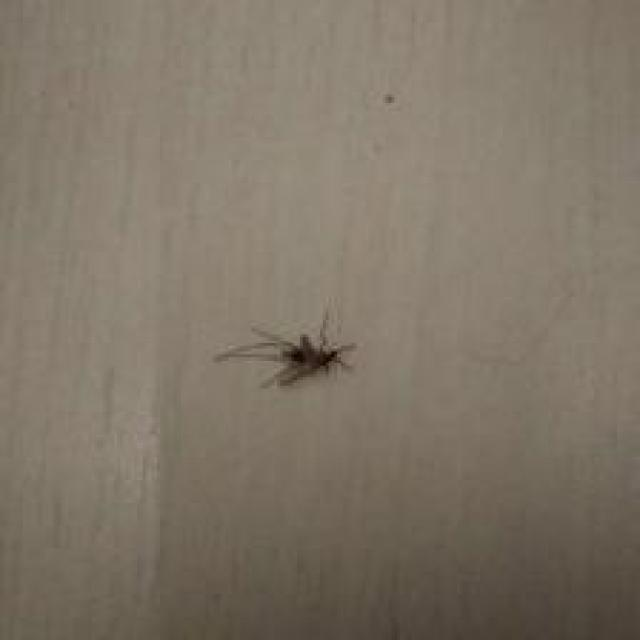Culex: (214, 307, 357, 390)
